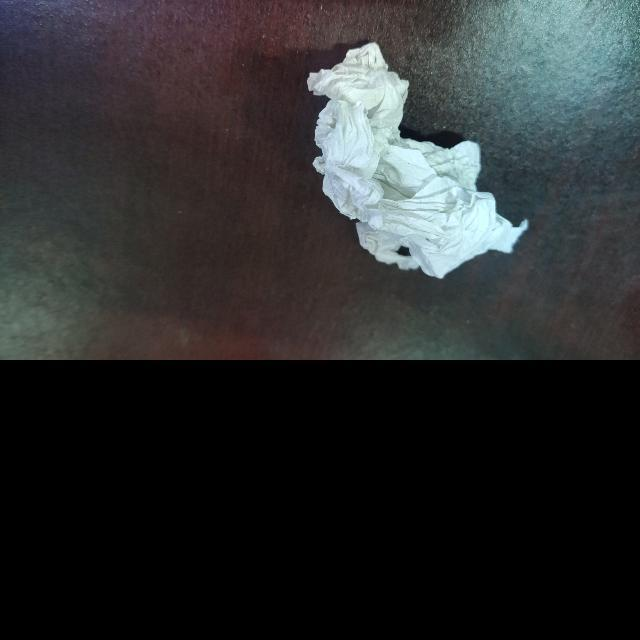kitchen paper: (299, 38, 536, 286)
